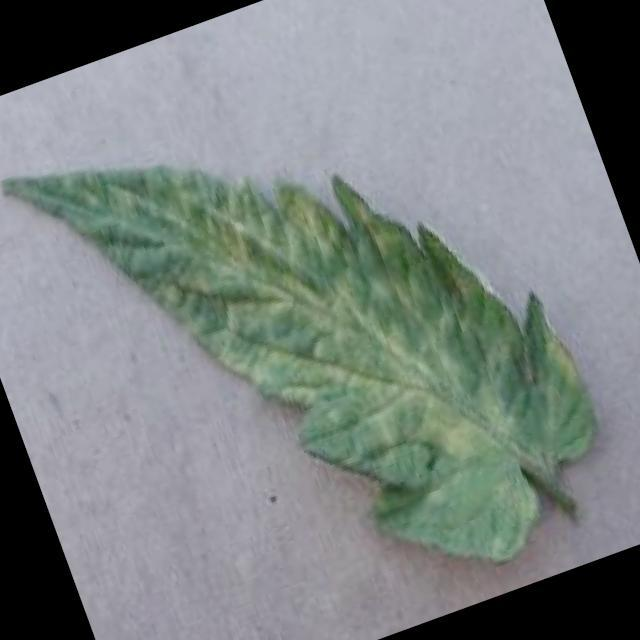Tomato mold leaf: (0, 14, 628, 640)
